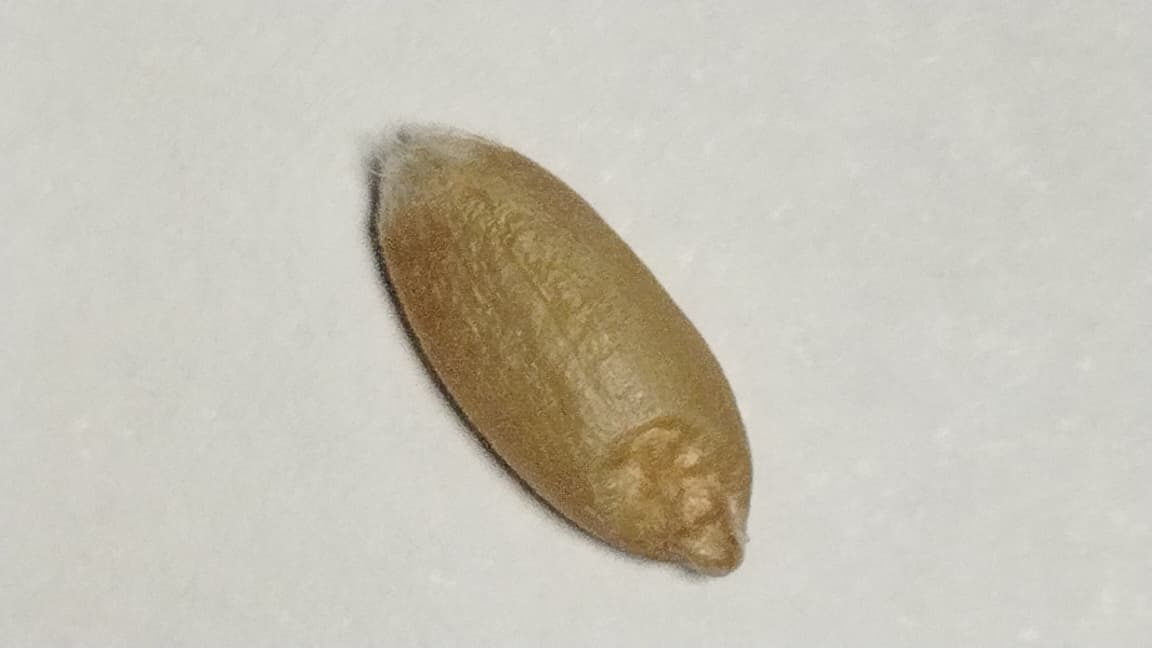healthy: (379, 130, 750, 573)
